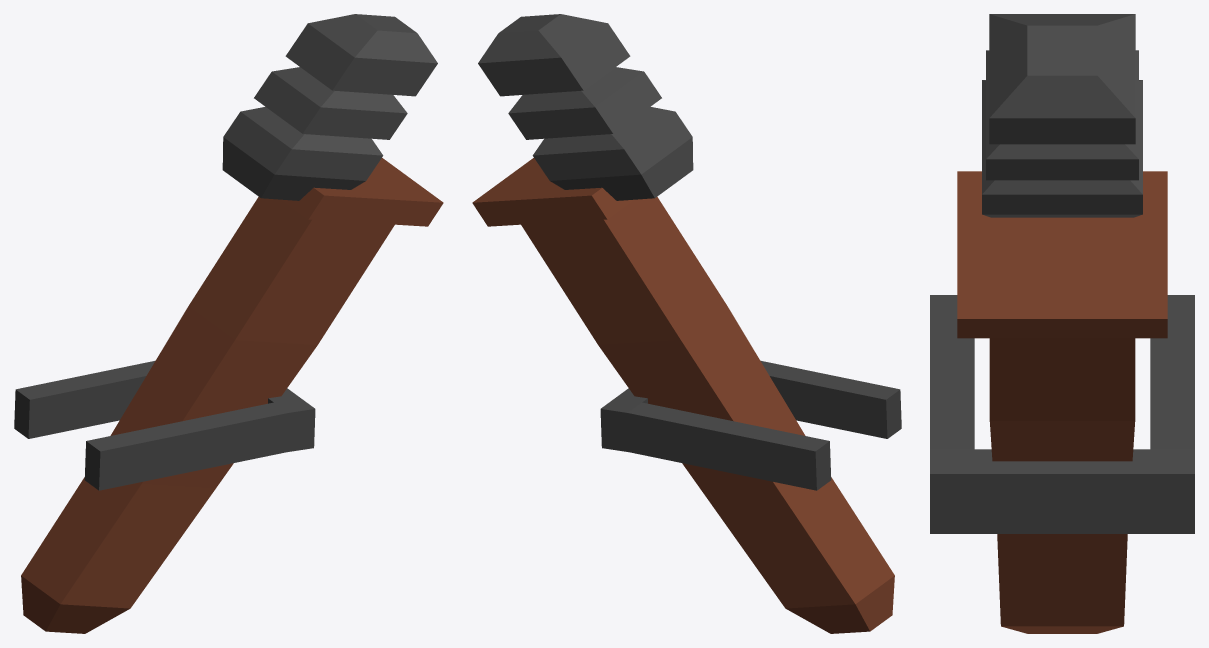
Rendered from wallTourch.fbx.
3 views of the same model, side by side, from view 1: azimuth 30°, elevation 25°; view 2: azimuth 150°, elevation 25°; view 3: azimuth 270°, elevation 25° (orthographic). The views are drawn at different scales.
Parts seen in each view (by area): view 1: Cube.026, Cube.028, Cube.027; view 2: Cube.026, Cube.028, Cube.027; view 3: Cube.026, Cube.027, Cube.028.
Boxes of the visible parts, left/top/right/bottom form: Cube.026: left=21, top=158, right=443, bottom=633; Cube.028: left=222, top=14, right=437, bottom=200; Cube.027: left=14, top=360, right=315, bottom=490; Cube.026: left=472, top=158, right=894, bottom=633; Cube.028: left=478, top=14, right=693, bottom=200; Cube.027: left=600, top=360, right=901, bottom=490; Cube.026: left=957, top=171, right=1167, bottom=633; Cube.027: left=930, top=295, right=1194, bottom=533; Cube.028: left=982, top=14, right=1142, bottom=217.
Bounding box in the file's own units: 184 × 246 × 71.03.
